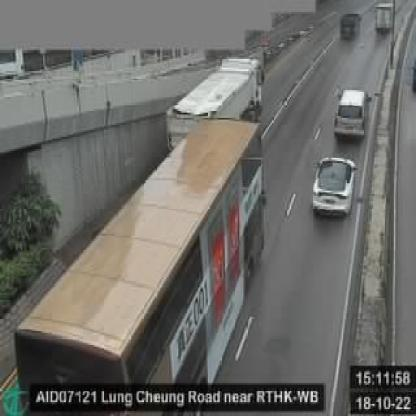Bus: (13, 122, 267, 392)
Car: (311, 156, 357, 221), (332, 86, 374, 144), (340, 11, 363, 41)
Truck: (168, 57, 264, 146), (374, 2, 397, 38)
